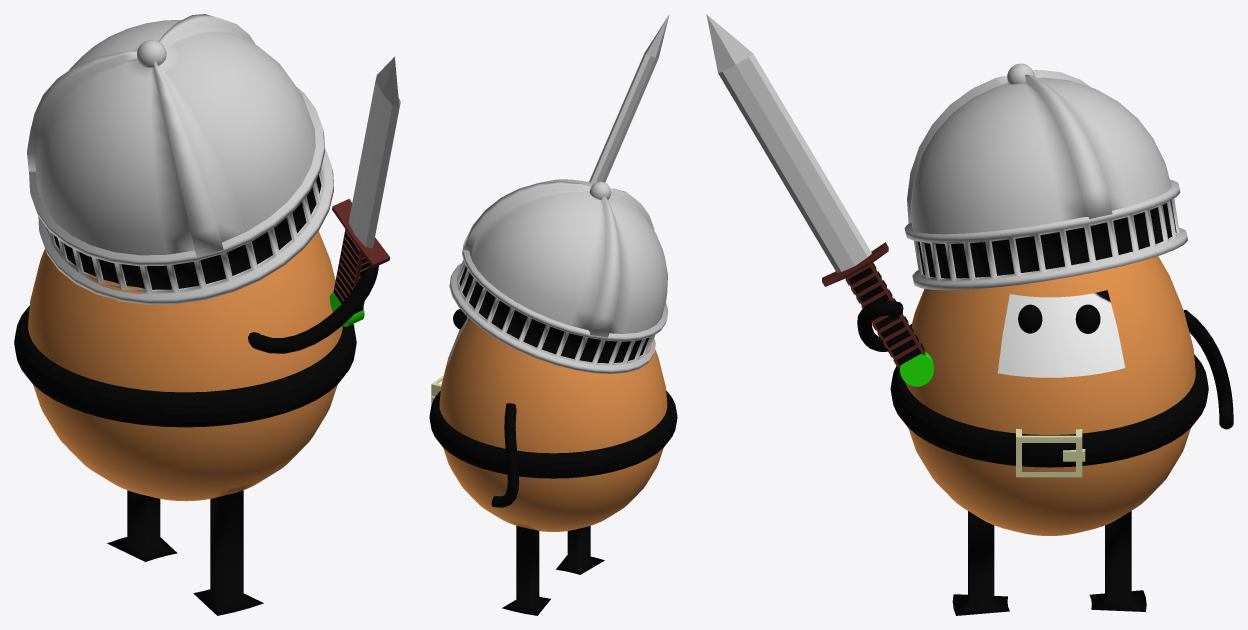
The model's file is Sergeant Scramble.fbx.
3 renders of one model, left to right at view 1: azimuth 30°, elevation 25°; view 2: azimuth 150°, elevation 25°; view 3: azimuth 270°, elevation 25°, orthographic. The views are drawn at different scales.
Visible parts, largest first — view 1: Sergeant Scramble, BézierCurve; view 2: Sergeant Scramble, BézierCurve; view 3: Sergeant Scramble, BézierCurve.
Boxes of the visible parts, x1,y1,x2,y2 form: Sergeant Scramble: (14, 14, 400, 615); BézierCurve: (248, 265, 378, 353); Sergeant Scramble: (429, 14, 677, 615); BézierCurve: (491, 403, 519, 507); Sergeant Scramble: (706, 14, 1208, 615); BézierCurve: (857, 301, 1233, 429).
Size of the model in its own units: 218 by 449 by 358.
